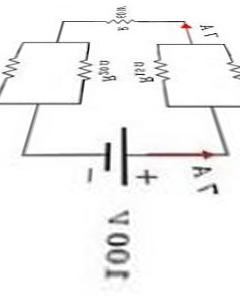resistor: (0, 55, 26, 87), (153, 53, 173, 89), (73, 51, 93, 84), (221, 55, 238, 86), (101, 13, 138, 27)
